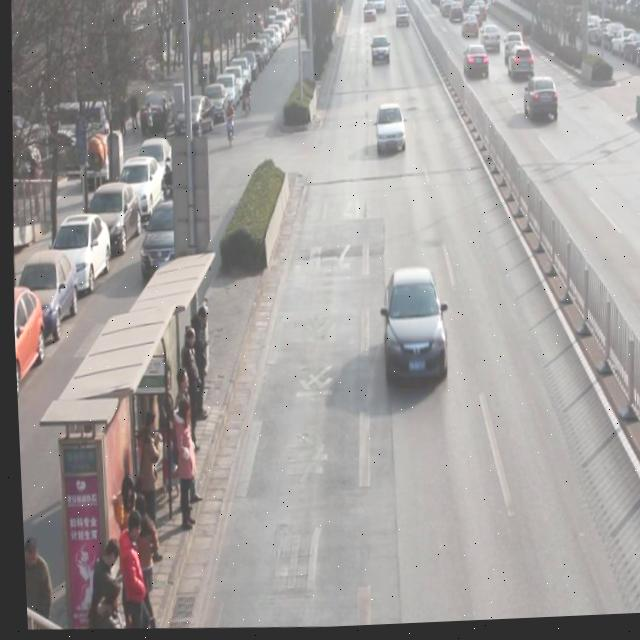car: (377, 268, 448, 391), (135, 195, 200, 285), (521, 79, 558, 127), (373, 105, 405, 158), (460, 46, 490, 86), (506, 47, 536, 86), (478, 26, 501, 58), (370, 37, 390, 70), (461, 13, 479, 43), (502, 36, 522, 60), (394, 7, 410, 32), (472, 0, 487, 25), (450, 3, 465, 24), (363, 3, 377, 25), (372, 0, 386, 17)
